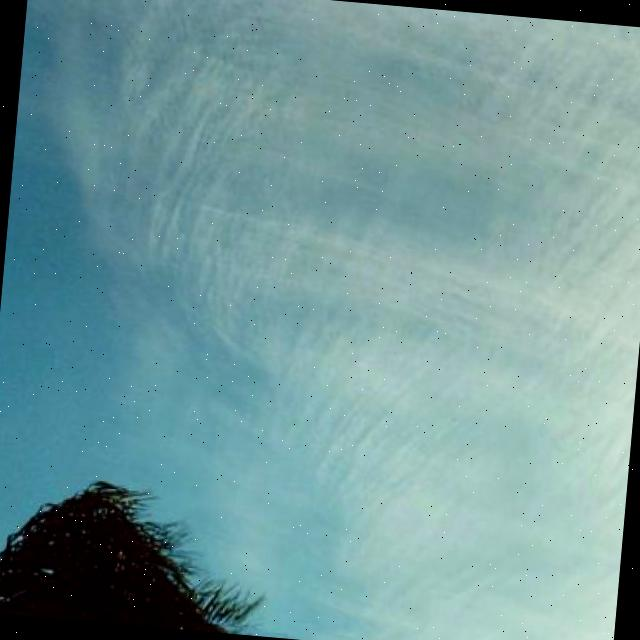Cc: (1, 1, 640, 459)
